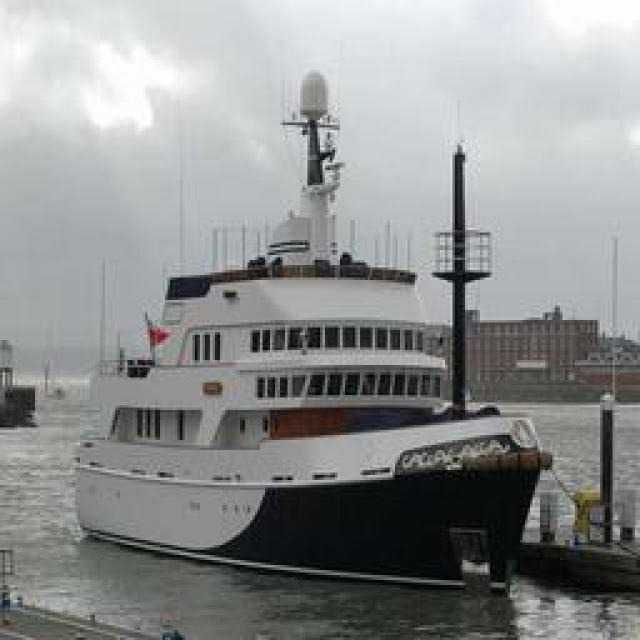Ship: (68, 101, 553, 586)
